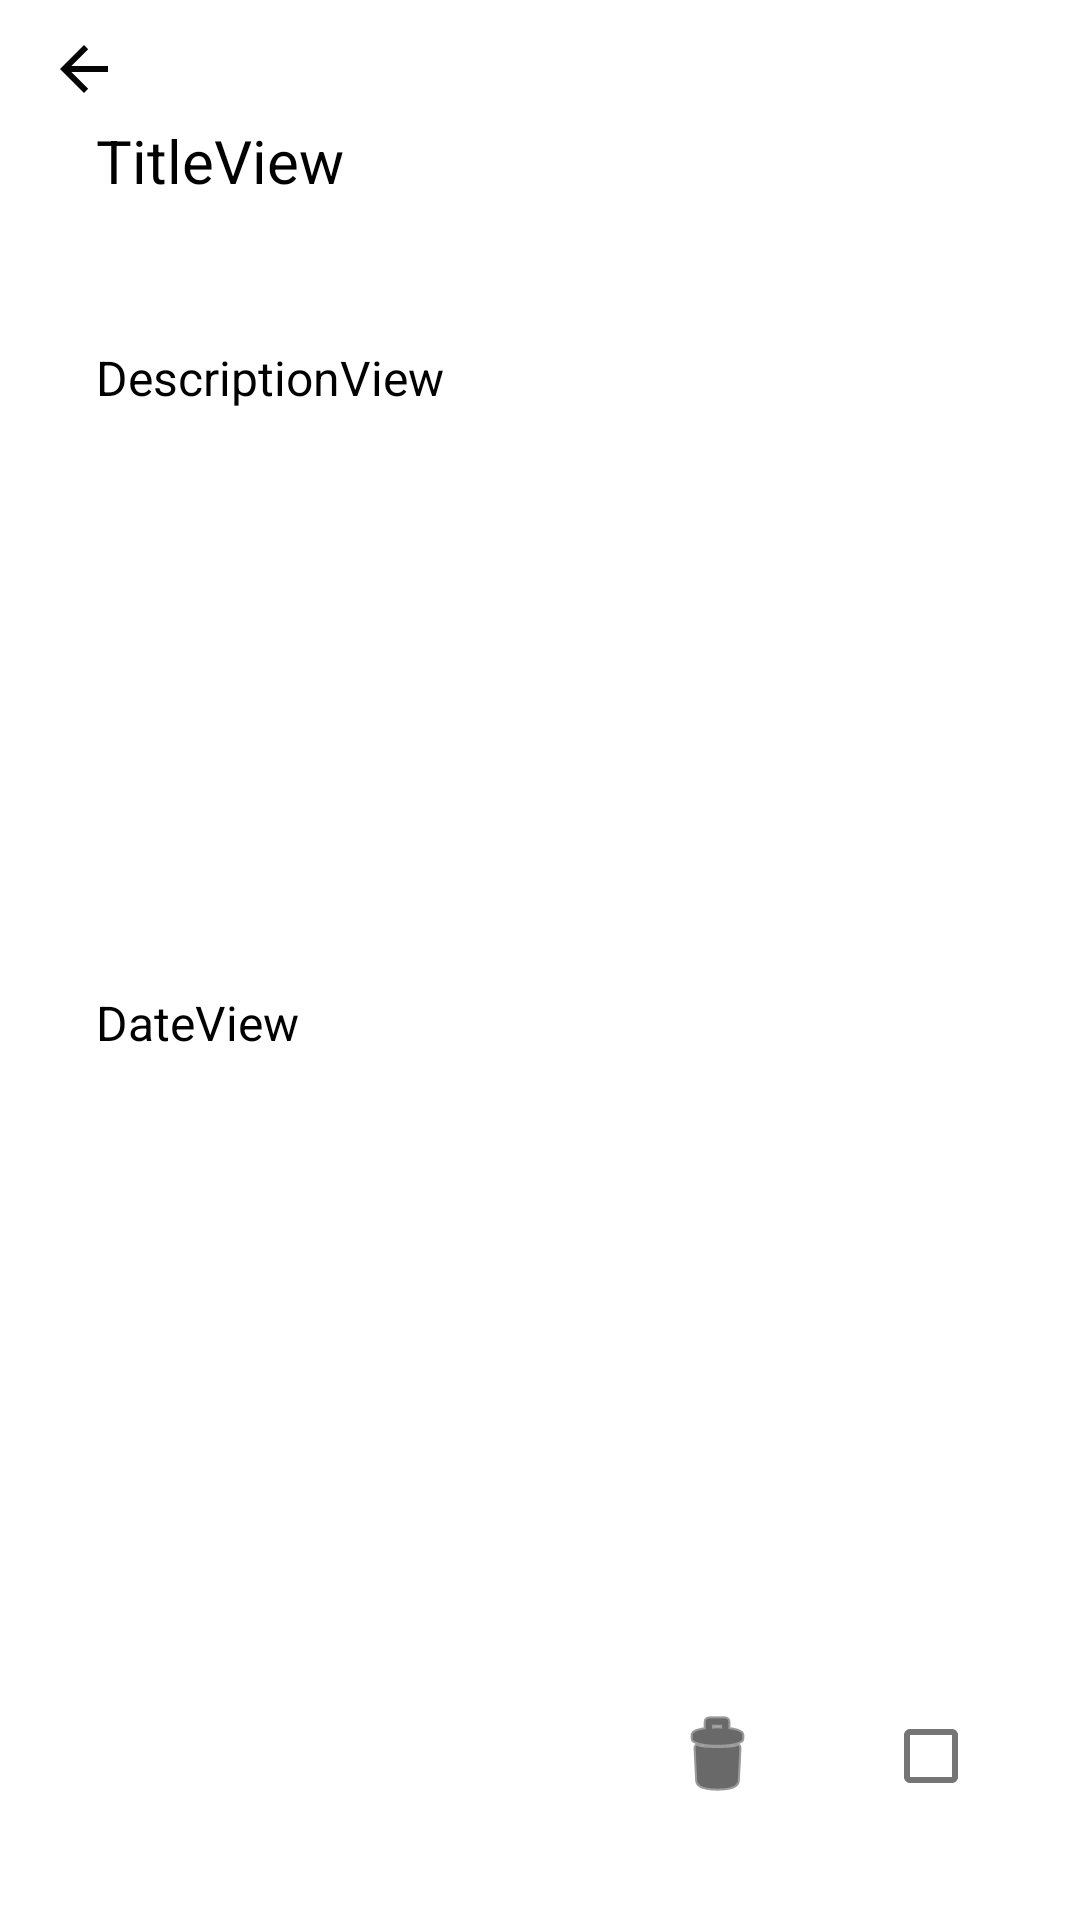

Icons on this 1080 x 1920 Android screen, each with the point to tap as [x,y]:
delete: [717,1753]
